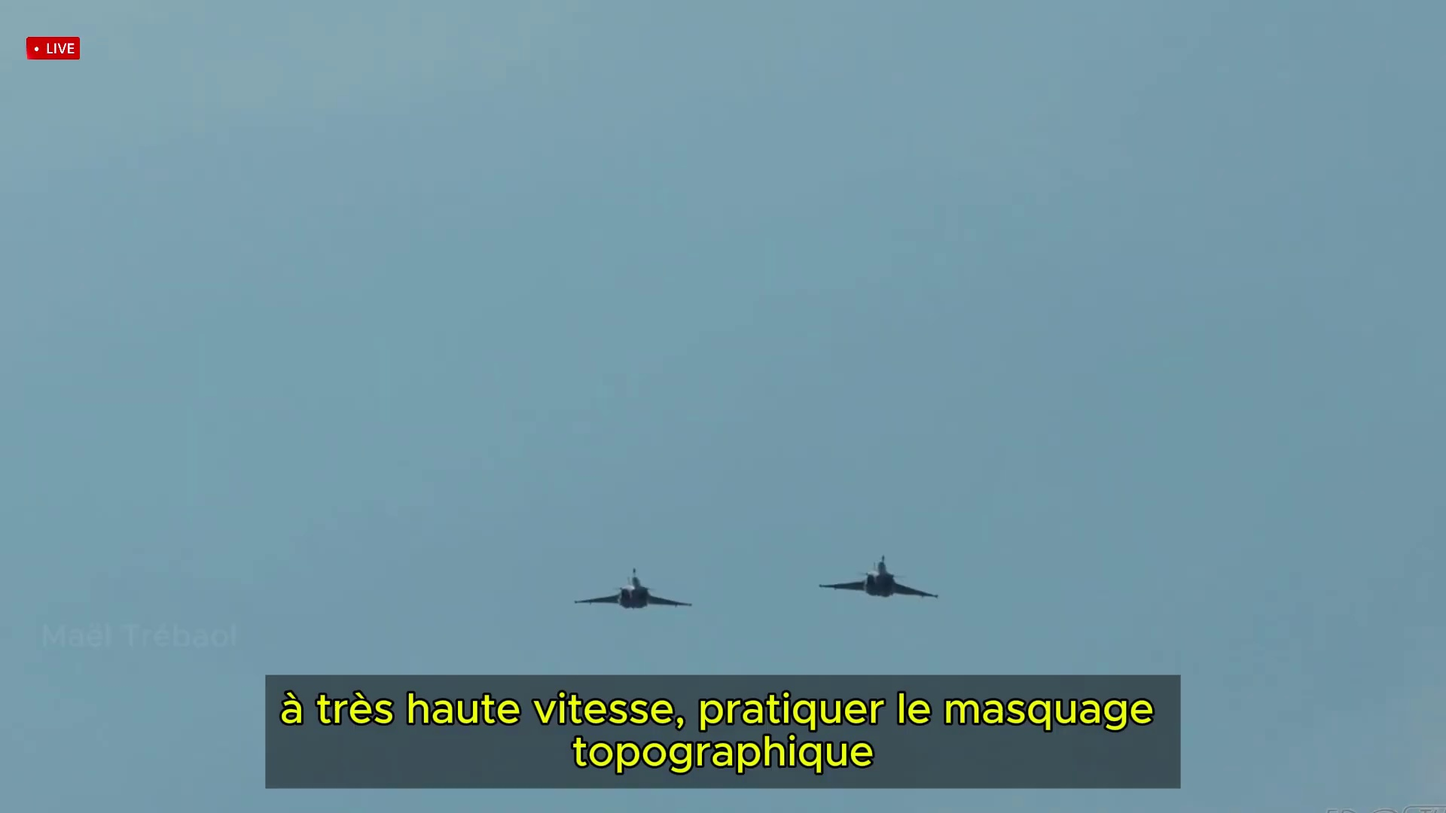Rafale: (820, 553, 942, 602), (571, 565, 694, 612)
